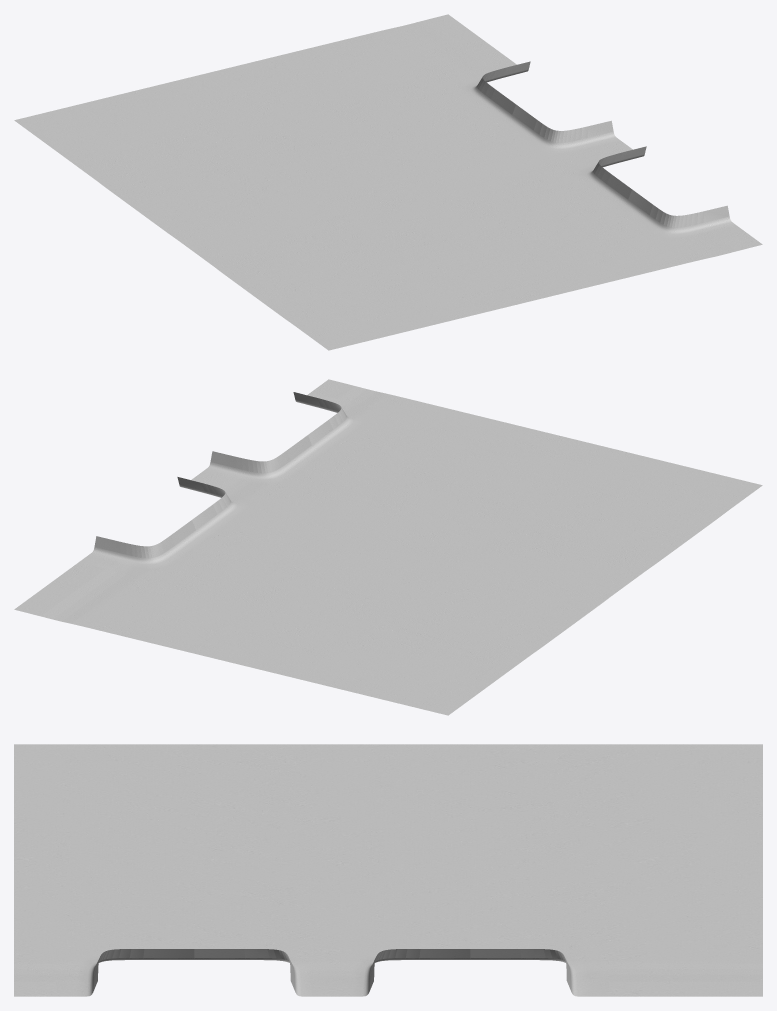
File: Wall_dingA.FBX
3 views of the same model, one above another, from view 1: azimuth 30°, elevation 25°; view 2: azimuth 150°, elevation 25°; view 3: azimuth 270°, elevation 25° (orthographic). The views are drawn at different scales.
Visible parts, largest first — view 1: Wall_dingA; view 2: Wall_dingA; view 3: Wall_dingA.
Boxes of the visible parts, x1,y1,x2,y2 form: Wall_dingA: [14, 14, 762, 350]; Wall_dingA: [14, 379, 762, 715]; Wall_dingA: [14, 744, 762, 996].
Bounding box in the file's own units: 7042 × 213 × 8830.
